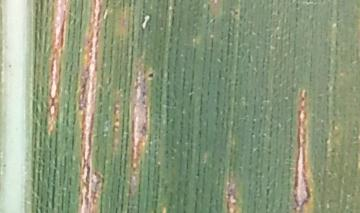tarspot: (146, 70, 156, 81)
